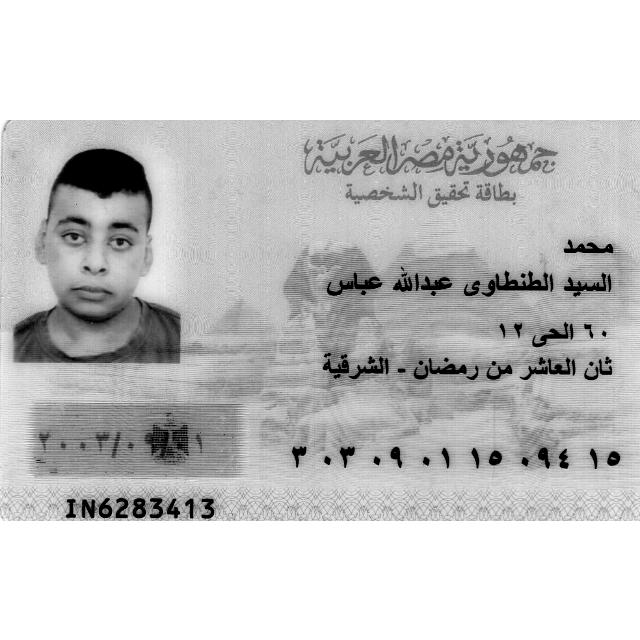front: (0, 119, 639, 520)
